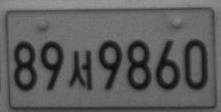0: (182, 37, 208, 90)
6: (154, 39, 180, 90)
8: (126, 38, 152, 91), (13, 40, 37, 91)
9: (39, 39, 64, 91), (97, 39, 122, 90)
서: (68, 49, 92, 90)
